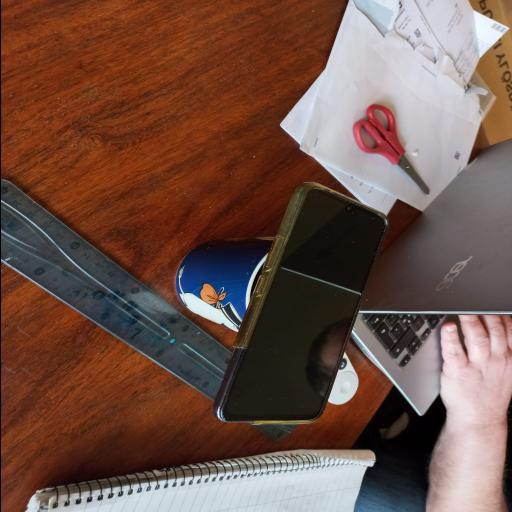phone: (214, 182, 386, 423)
